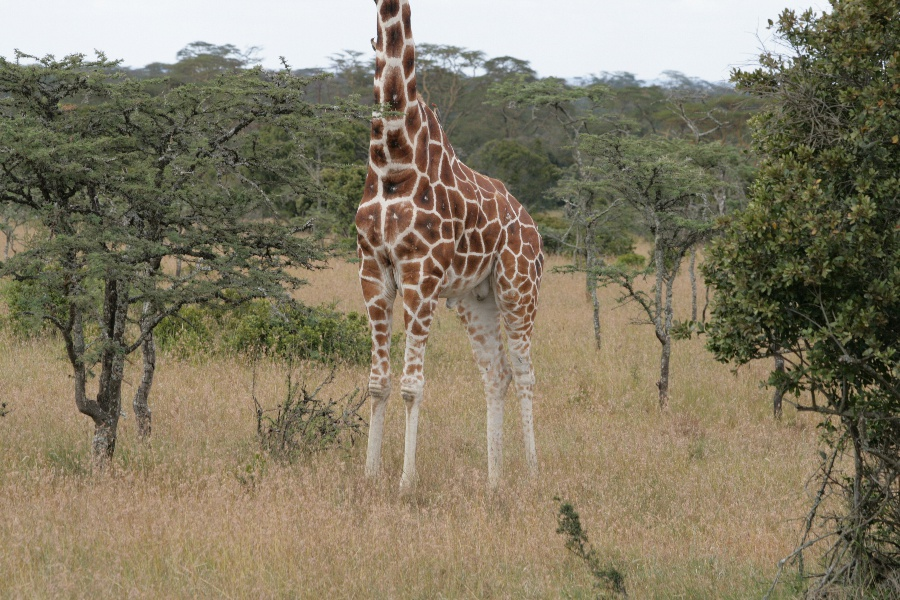giraffe: (343, 0, 551, 493)
